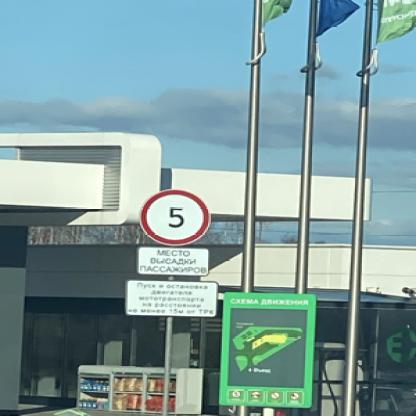speedlimit: (139, 189, 209, 244)
